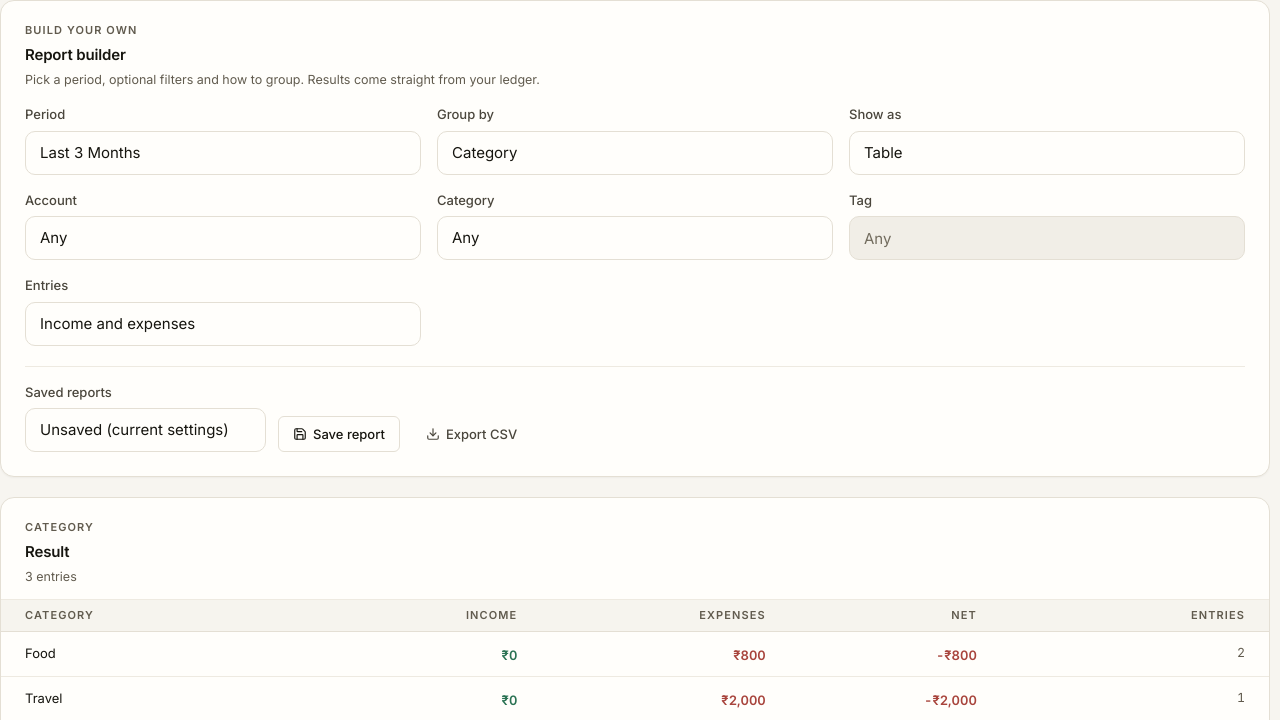
Test case: <ReportBuilderTab> (§Phase 7) › saves the current definition under a name, then offers update / duplicate / delete
The width and height of the screenshot is (1280, 720).
Click the button "Save report" at (339, 434), box [278,416,400,452]
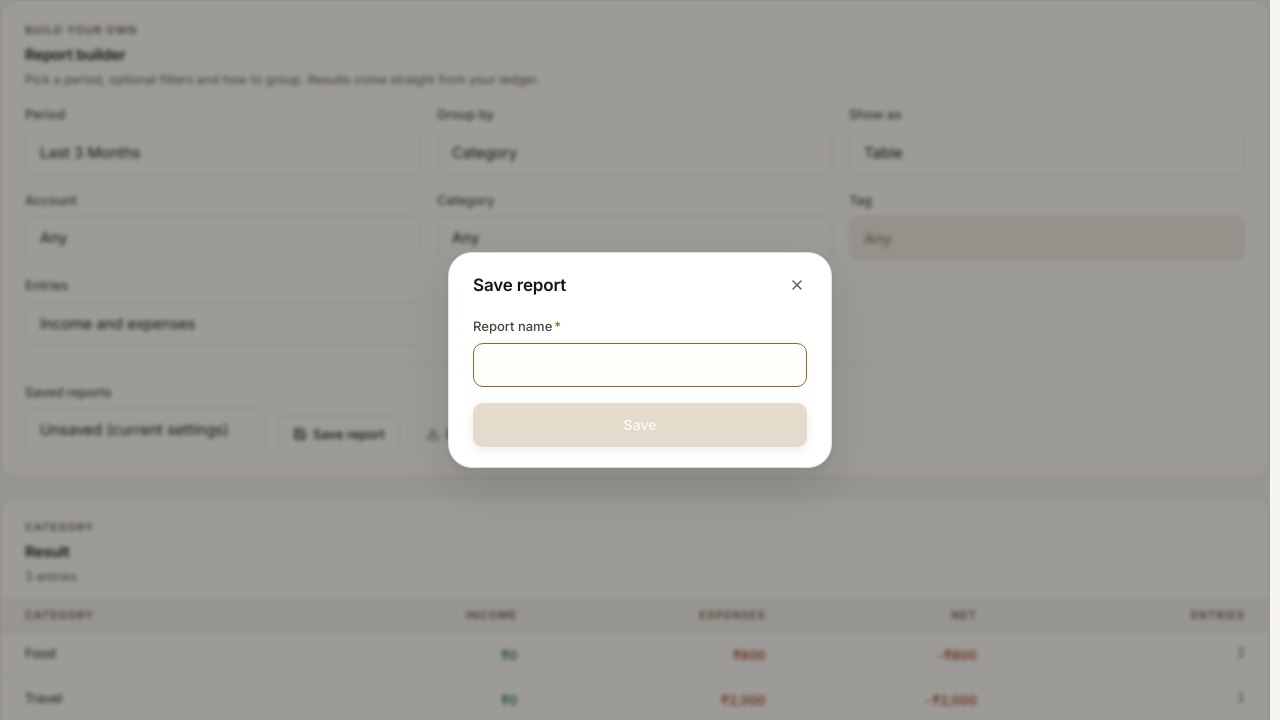
Type "Quarterly food" into the field labelled "Report name*" at (640, 365), box [473,343,807,387]
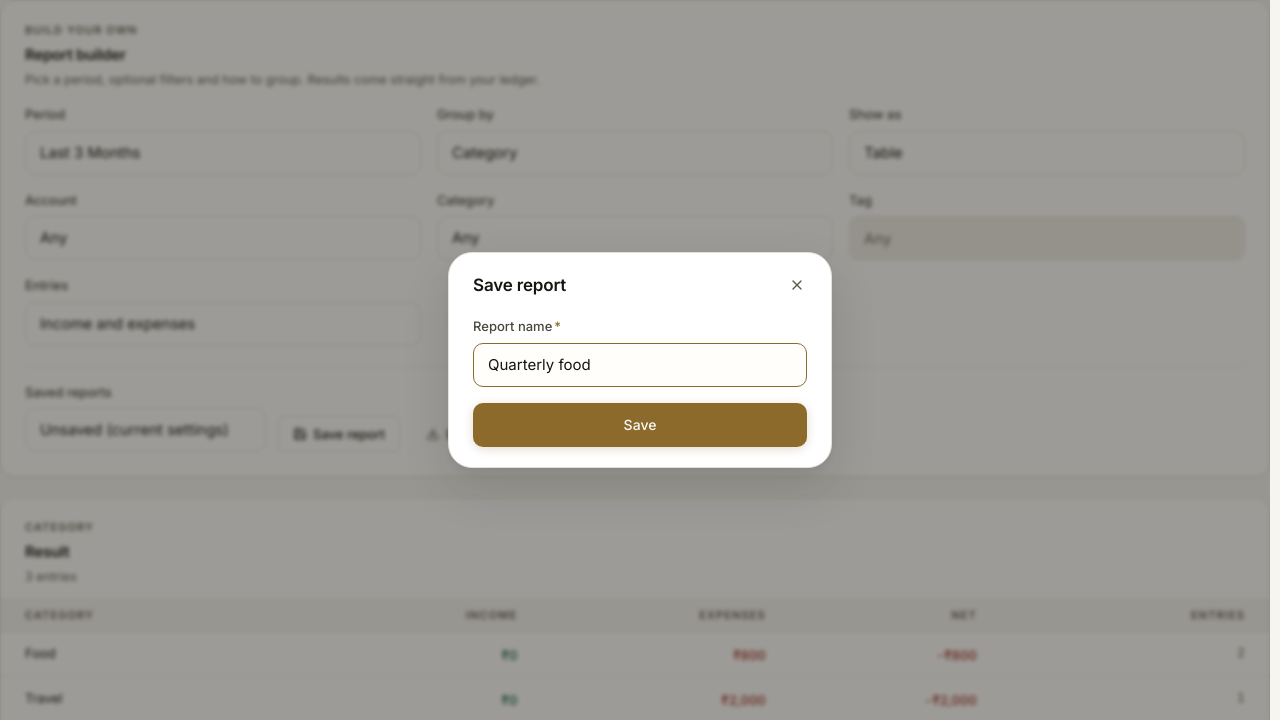
Click the button "Save" at (640, 425), box [473,403,807,447]
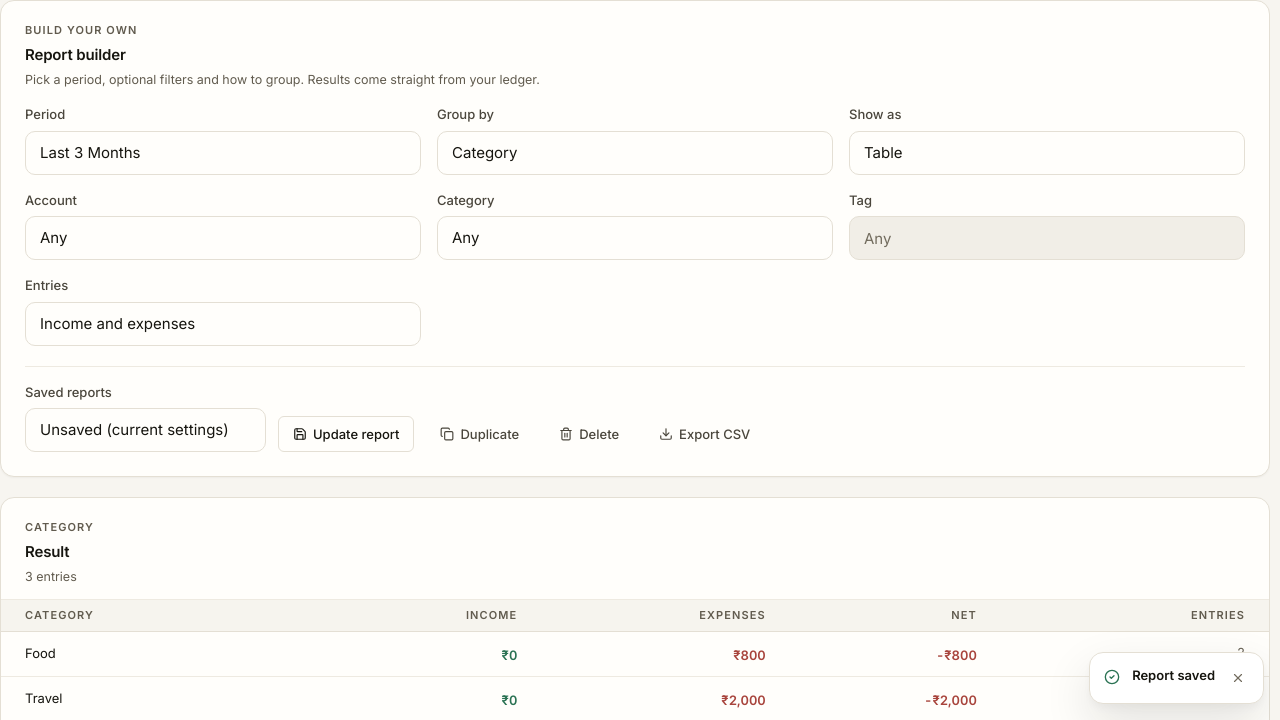
Result: the button "Update report" is shown at [278,416,414,452]
Result: the button "Duplicate" is shown at [426,416,533,452]
